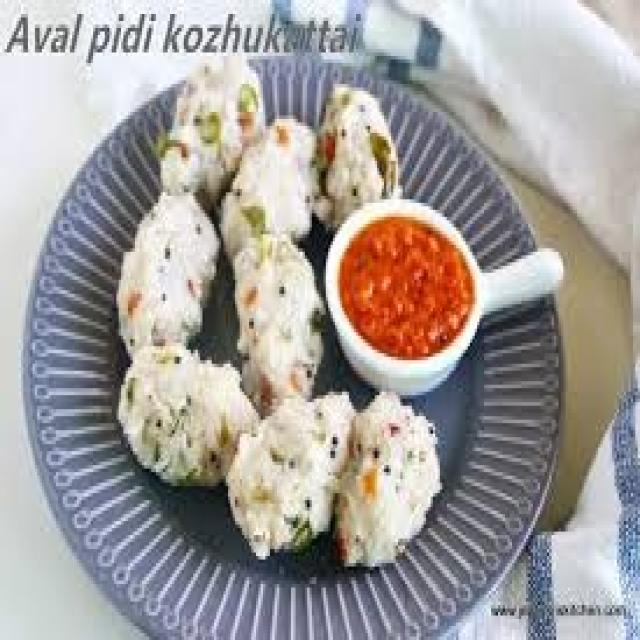pidi kolukattai: (136, 61, 324, 527)
